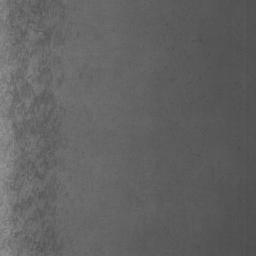Silk spot: (0, 0, 66, 256), (27, 0, 65, 83), (58, 2, 65, 20), (58, 74, 64, 86)
